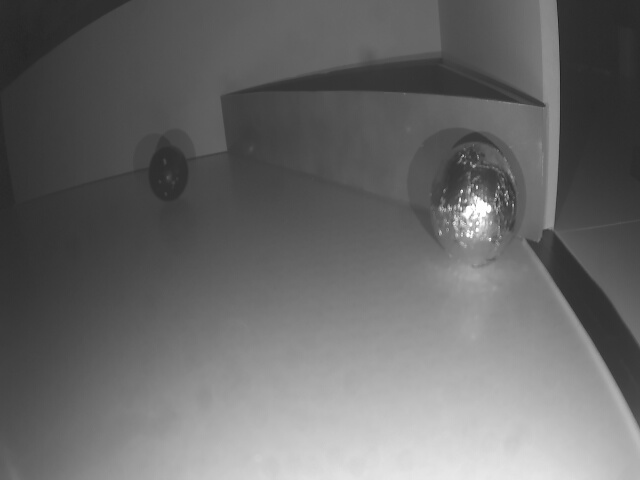Dead: (147, 149, 192, 202)
Green: (218, 94, 543, 245)
Live: (424, 144, 528, 271)
